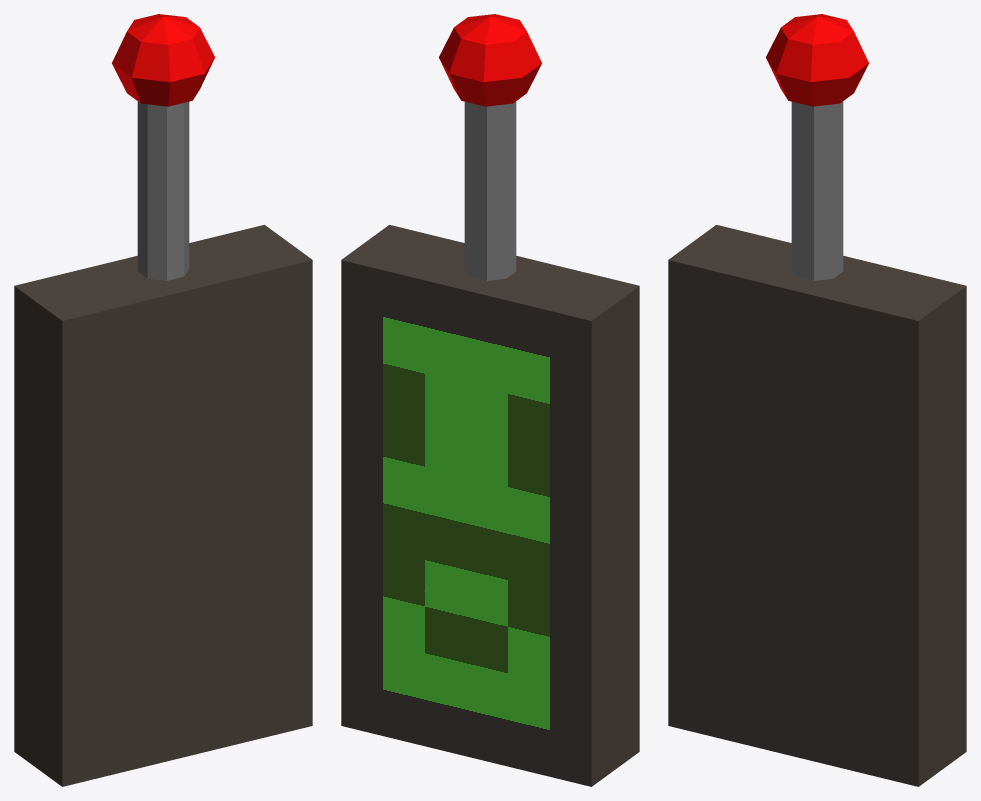
The model's file is AI Buddy.fbx.
The picture shows the model from 3 angles, left to right: view 1: azimuth 30°, elevation 25°; view 2: azimuth 150°, elevation 25°; view 3: azimuth 330°, elevation 25°; orthographic projection.
Visible parts, largest first — view 1: cuboid, cylinder, sphere; view 2: cuboid, cylinder, sphere; view 3: cuboid, cylinder, sphere.
Part boxes in pixels (left/top/right/bottom): cuboid: left=14, top=225, right=312, bottom=786; cylinder: left=137, top=101, right=189, bottom=280; sphere: left=112, top=14, right=214, bottom=106; cuboid: left=341, top=225, right=639, bottom=786; cylinder: left=464, top=101, right=516, bottom=280; sphere: left=439, top=14, right=541, bottom=106; cuboid: left=668, top=225, right=966, bottom=786; cylinder: left=791, top=101, right=843, bottom=280; sphere: left=766, top=14, right=868, bottom=106.
Bounding box in the file's own units: 18.75 × 51.67 × 6.25.
